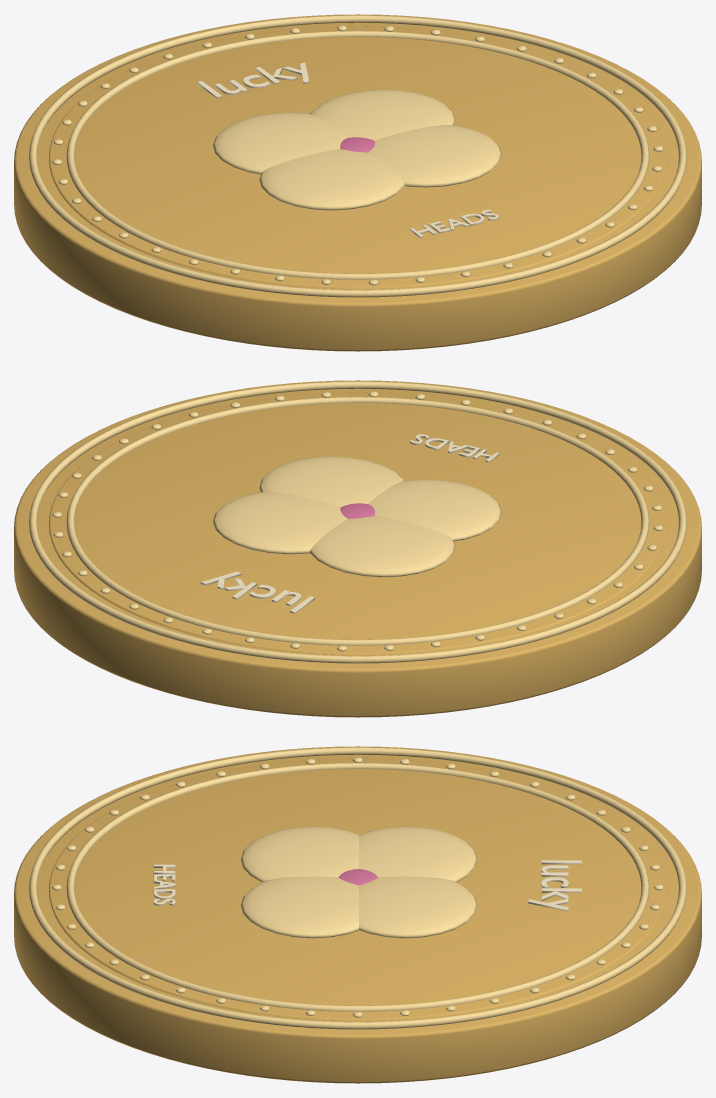
File: lucky-coin.glb
3 views of the same model, one above another, from view 1: azimuth 30°, elevation 25°; view 2: azimuth 150°, elevation 25°; view 3: azimuth 270°, elevation 25° (orthographic).
Visible parts, largest first — view 1: heads inset, Coin body, heads rim, heads inner border, Heads clover.003, Heads clover, Heads clover.001, Heads clover.002, lucky, HEADS; view 2: heads inset, Coin body, heads rim, heads inner border, Heads clover.001, Heads clover.002, Heads clover.003, Heads clover, lucky, HEADS; view 3: heads inset, Coin body, heads rim, heads inner border, Heads clover.002, Heads clover, Heads clover.001, Heads clover.003, lucky, HEADS.
Part boxes in pixels (x1,y1,x2,y2): heads inset: (49,26,666,289); Coin body: (14,14,701,351); heads rim: (29,15,686,297); heads inner border: (66,31,649,279); Heads clover.003: (259,149,405,210); Heads clover: (368,125,501,187); Heads clover.001: (213,112,347,174); Heads clover.002: (310,89,455,140); lucky: (197,62,308,98); HEADS: (409,209,498,238); heads inset: (49,392,666,655); Coin body: (14,380,701,717); heads rim: (29,381,686,663); heads inner border: (66,397,649,645); Heads clover.001: (309,516,455,577); Heads clover.002: (213,491,347,554); Heads clover.003: (368,479,501,541); Heads clover: (259,456,404,507); lucky: (200,571,315,613); HEADS: (410,434,499,462); heads inset: (49,758,666,1021); Coin body: (14,746,701,1083); heads rim: (29,747,686,1029); heads inner border: (66,763,649,1011); Heads clover.002: (359,876,477,938); Heads clover: (241,876,358,938); Heads clover.001: (359,826,477,882); Heads clover.003: (240,826,358,882); lucky: (528,860,581,911); HEADS: (153,864,175,905).
Size of the model in its own units: 1.52 by 0.195 by 1.52.
